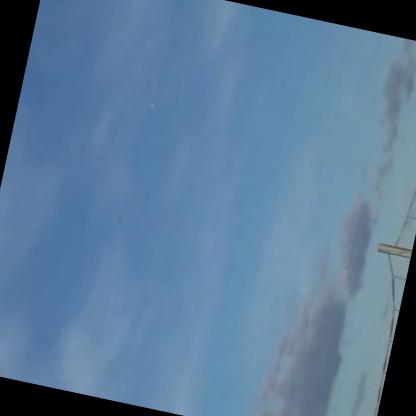plane: (146, 100, 157, 110)
